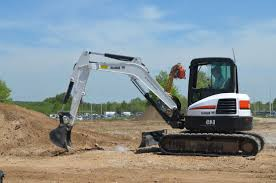excavator: (50, 48, 266, 158)
